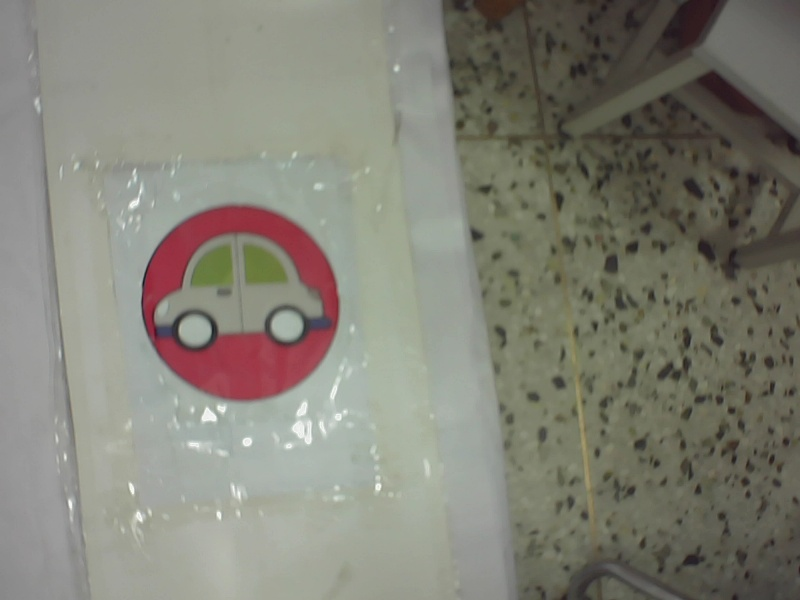areaC: (128, 201, 351, 409)
